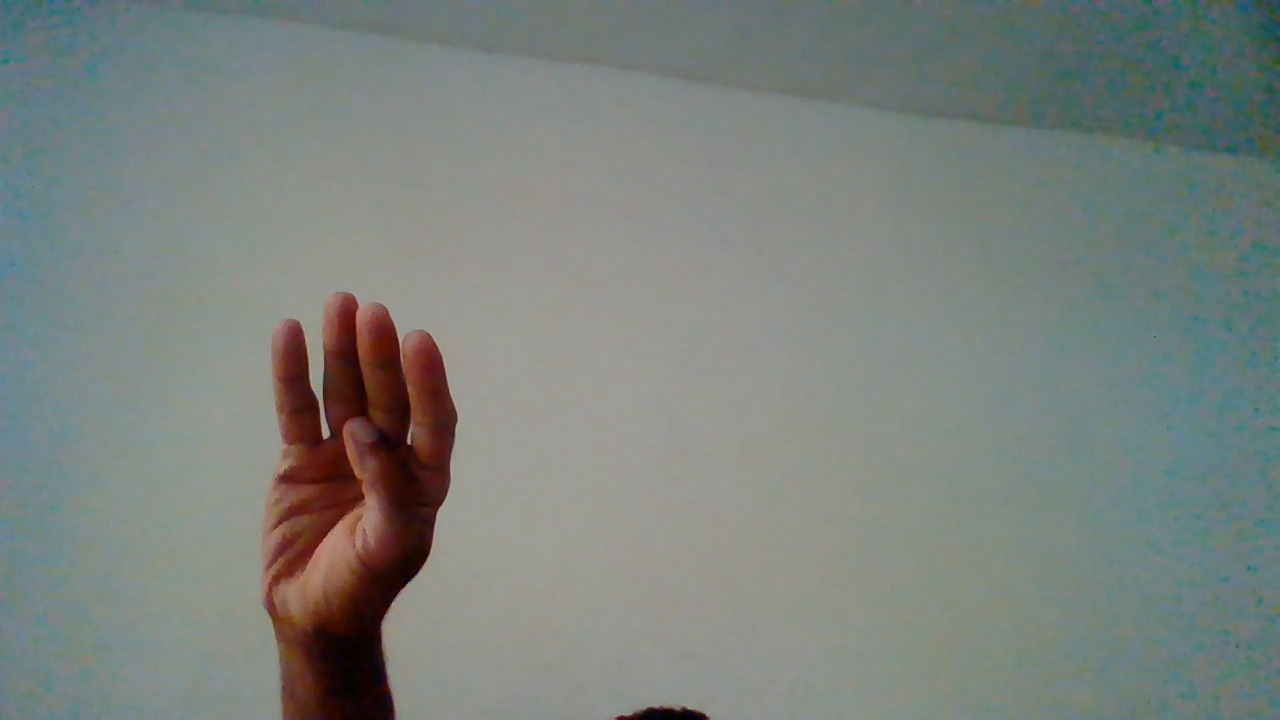me: (259, 295, 464, 705)
